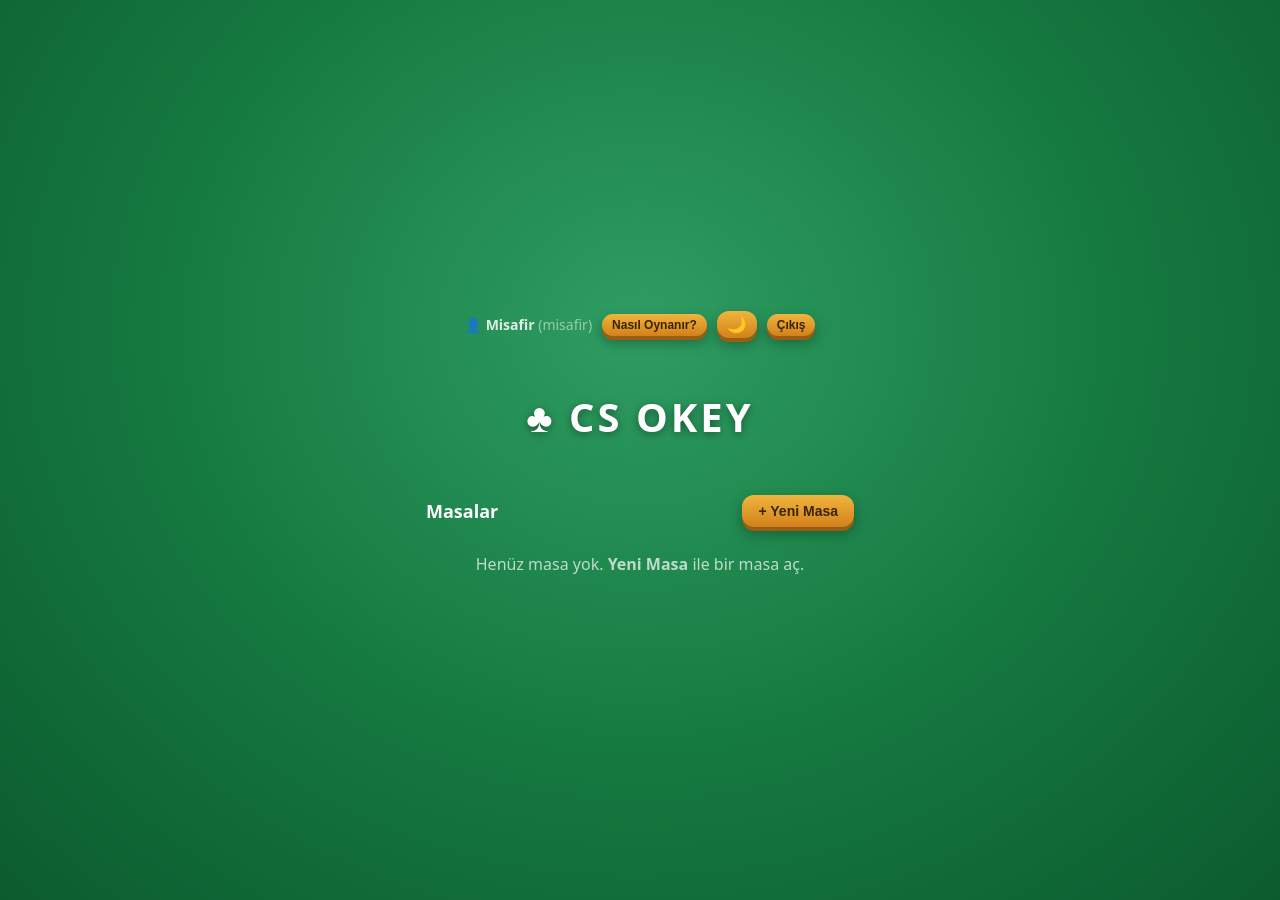
Test: App + lobby integration › a created table appears in the lobby and can be re-entered (Devam Et)
The image size is (1280, 900).
Click the button "+ Yeni Masa". click: (798, 511)
box: [742,495,854,527]
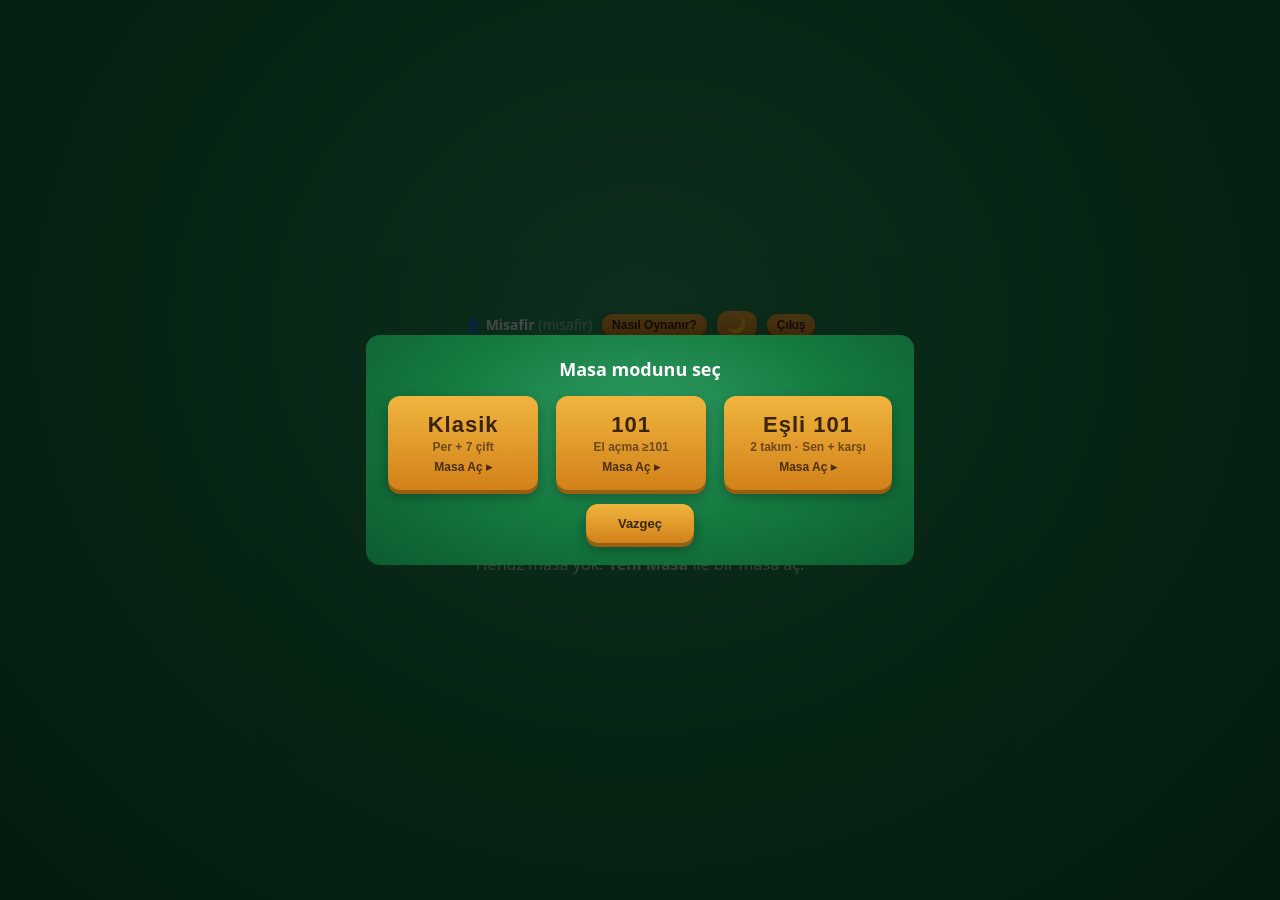
Click the button "Klasik Per + 7 çift Masa Aç ▸". click: (463, 443)
box: [388,396,538,490]
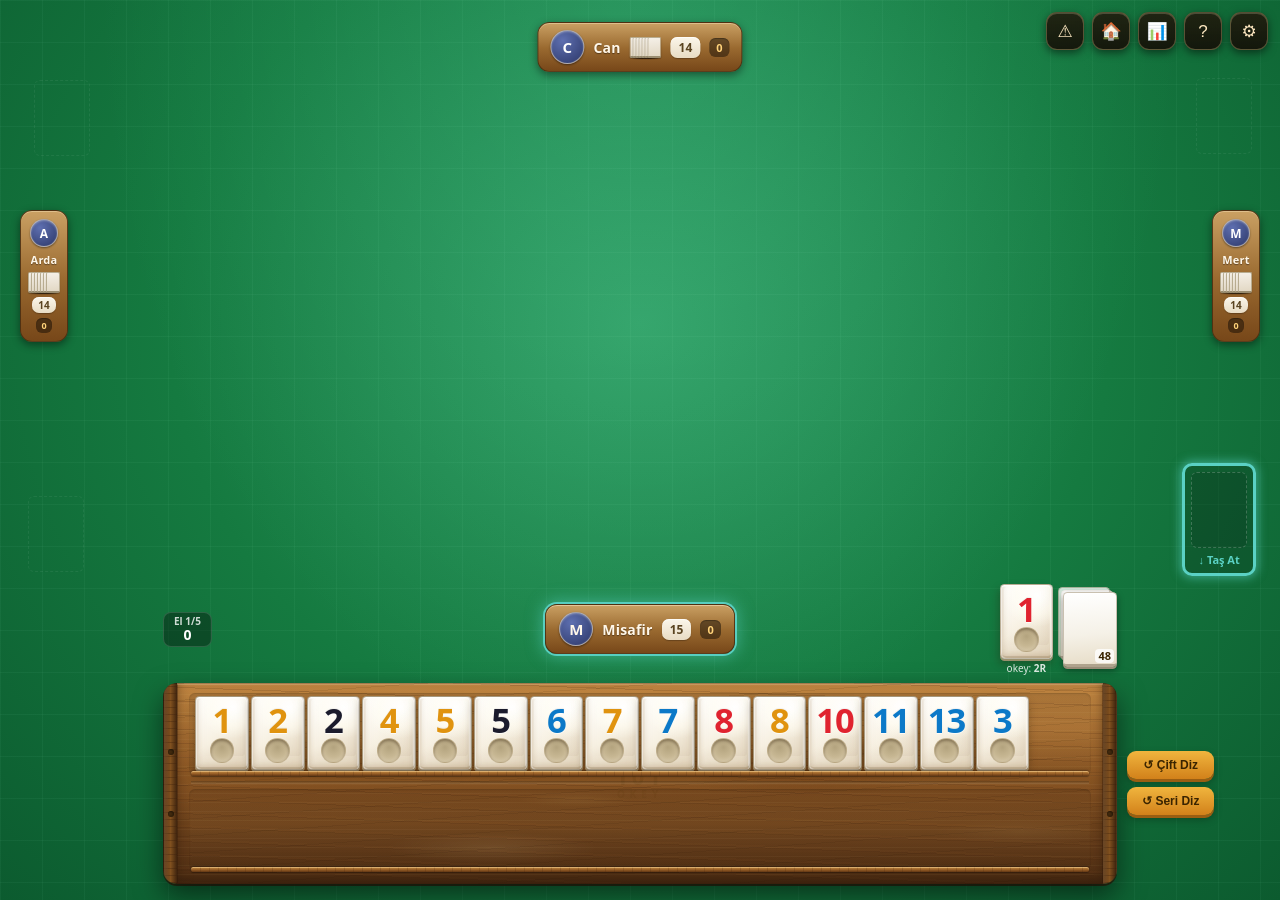
Now the button with test id "tile" in the row of "101" is shown, box [195,696,249,770]
